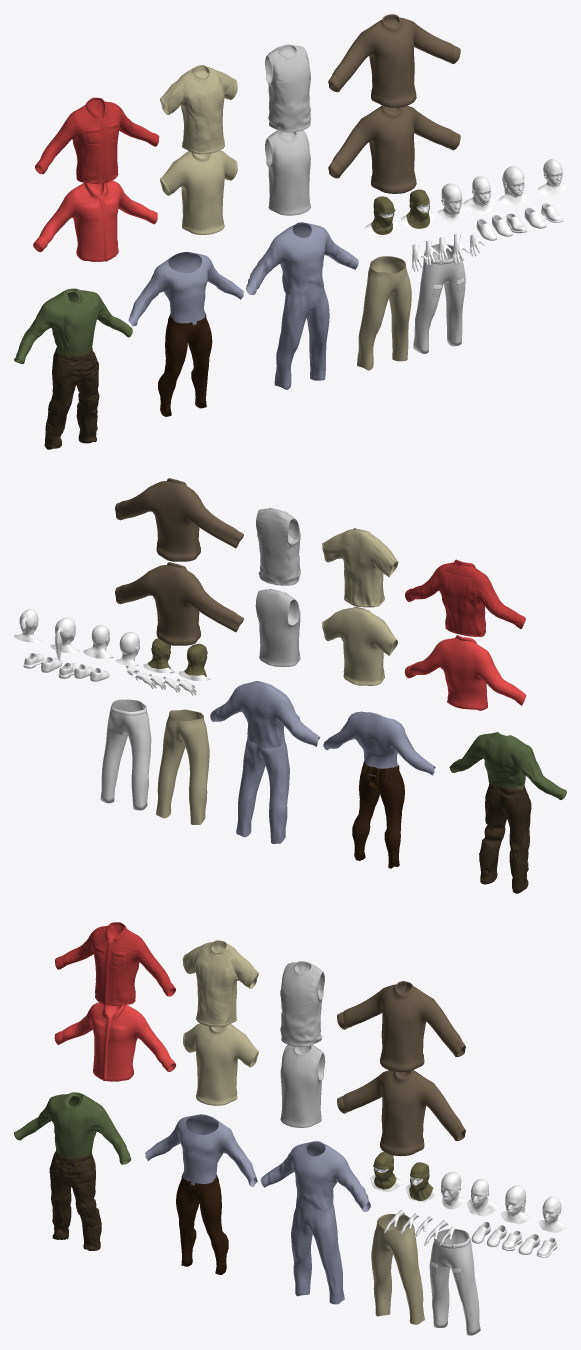
Rendered from clothing_and_character_kit_1.0_cc0.glb.
The picture shows the model from 3 angles, top to bottom: view 1: azimuth 30°, elevation 25°; view 2: azimuth 150°, elevation 25°; view 3: azimuth 330°, elevation 25°; orthographic projection. The views are drawn at different scales.
Parts seen in each view (by area): view 1: Cylinder.015_Cylinder.017_12, Cylinder.011_Cylinder.012_11, tshirt_retopo_Plane.001_8, tshirt_retopo.001_Plane.002_7, Cylinder.008_3, Cylinder.017_Cylinder.010_9, Cylinder.010_Cylinder.002_6, Cylinder.004_Cylinder.005_1, tshirt_Cylinder_36, Cylinder.006_2, trousers_Cylinder.001_35, Cylinder.009_13 (+10 smaller); view 2: Cylinder.015_Cylinder.017_12, Cylinder.011_Cylinder.012_11, tshirt_retopo_Plane.001_8, tshirt_retopo.001_Plane.002_7, Cylinder.004_Cylinder.005_1, trousers_Cylinder.001_35, Cylinder.008_3, Cylinder.010_Cylinder.002_6, Cylinder.016_Cylinder.013_14, Cylinder.017_Cylinder.010_9, Cylinder.009_13, tshirt_Cylinder_36 (+10 smaller); view 3: Cylinder.015_Cylinder.017_12, Cylinder.011_Cylinder.012_11, tshirt_retopo_Plane.001_8, tshirt_retopo.001_Plane.002_7, Cylinder.017_Cylinder.010_9, Cylinder.008_3, Cylinder.010_Cylinder.002_6, tshirt_Cylinder_36, Cylinder.006_2, Cylinder.004_Cylinder.005_1, trousers_Cylinder.001_35, Cylinder.009_13 (+10 smaller).
Boxes of the visible parts, bbox=[...] form: Cylinder.015_Cylinder.017_12: bbox=[328, 14, 460, 107]; Cylinder.011_Cylinder.012_11: bbox=[328, 105, 460, 193]; tshirt_retopo_Plane.001_8: bbox=[35, 97, 159, 183]; tshirt_retopo.001_Plane.002_7: bbox=[33, 180, 157, 261]; Cylinder.008_3: bbox=[246, 222, 358, 297]; Cylinder.017_Cylinder.010_9: bbox=[160, 65, 237, 154]; Cylinder.010_Cylinder.002_6: bbox=[160, 150, 237, 234]; Cylinder.004_Cylinder.005_1: bbox=[357, 256, 411, 370]; tshirt_Cylinder_36: bbox=[14, 288, 132, 364]; Cylinder.006_2: bbox=[128, 252, 243, 326]; trousers_Cylinder.001_35: bbox=[44, 347, 99, 449]; Cylinder.009_13: bbox=[274, 286, 329, 389]; Cylinder.015_Cylinder.017_12: bbox=[115, 478, 243, 561]; Cylinder.011_Cylinder.012_11: bbox=[115, 562, 243, 645]; tshirt_retopo_Plane.001_8: bbox=[405, 559, 525, 636]; tshirt_retopo.001_Plane.002_7: bbox=[404, 635, 526, 710]; Cylinder.004_Cylinder.005_1: bbox=[156, 709, 209, 824]; trousers_Cylinder.001_35: bbox=[479, 783, 531, 893]; Cylinder.008_3: bbox=[210, 681, 320, 748]; Cylinder.010_Cylinder.002_6: bbox=[322, 606, 397, 685]; Cylinder.016_Cylinder.013_14: bbox=[100, 699, 151, 810]; Cylinder.017_Cylinder.010_9: bbox=[322, 528, 398, 607]; Cylinder.009_13: bbox=[236, 739, 289, 843]; tshirt_Cylinder_36: bbox=[449, 732, 566, 799]; Cylinder.015_Cylinder.017_12: bbox=[337, 981, 465, 1072]; Cylinder.011_Cylinder.012_11: bbox=[337, 1070, 465, 1156]; tshirt_retopo_Plane.001_8: bbox=[55, 922, 175, 1005]; tshirt_retopo.001_Plane.002_7: bbox=[54, 1002, 175, 1081]; Cylinder.017_Cylinder.010_9: bbox=[182, 940, 258, 1026]; Cylinder.008_3: bbox=[260, 1141, 370, 1211]; Cylinder.010_Cylinder.002_6: bbox=[183, 1023, 258, 1105]; tshirt_Cylinder_36: bbox=[14, 1092, 131, 1164]; Cylinder.006_2: bbox=[145, 1114, 257, 1186]; Cylinder.004_Cylinder.005_1: bbox=[371, 1214, 424, 1324]; trousers_Cylinder.001_35: bbox=[49, 1150, 101, 1250]; Cylinder.009_13: bbox=[291, 1203, 344, 1304].
Size of the model in its own units: 281 by 167 by 29.29.
